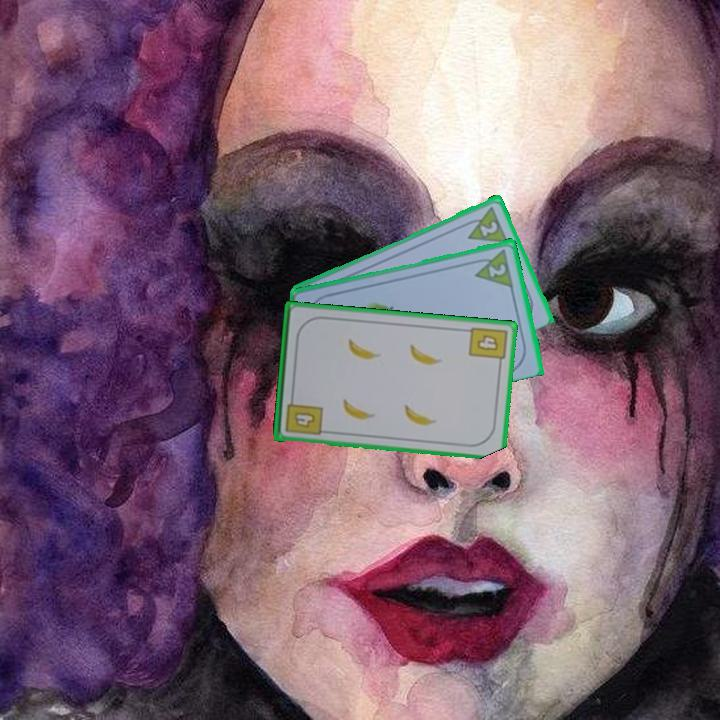2p: (477, 217, 501, 239), (485, 260, 509, 280)
4b: (465, 323, 510, 369), (282, 392, 325, 438)
